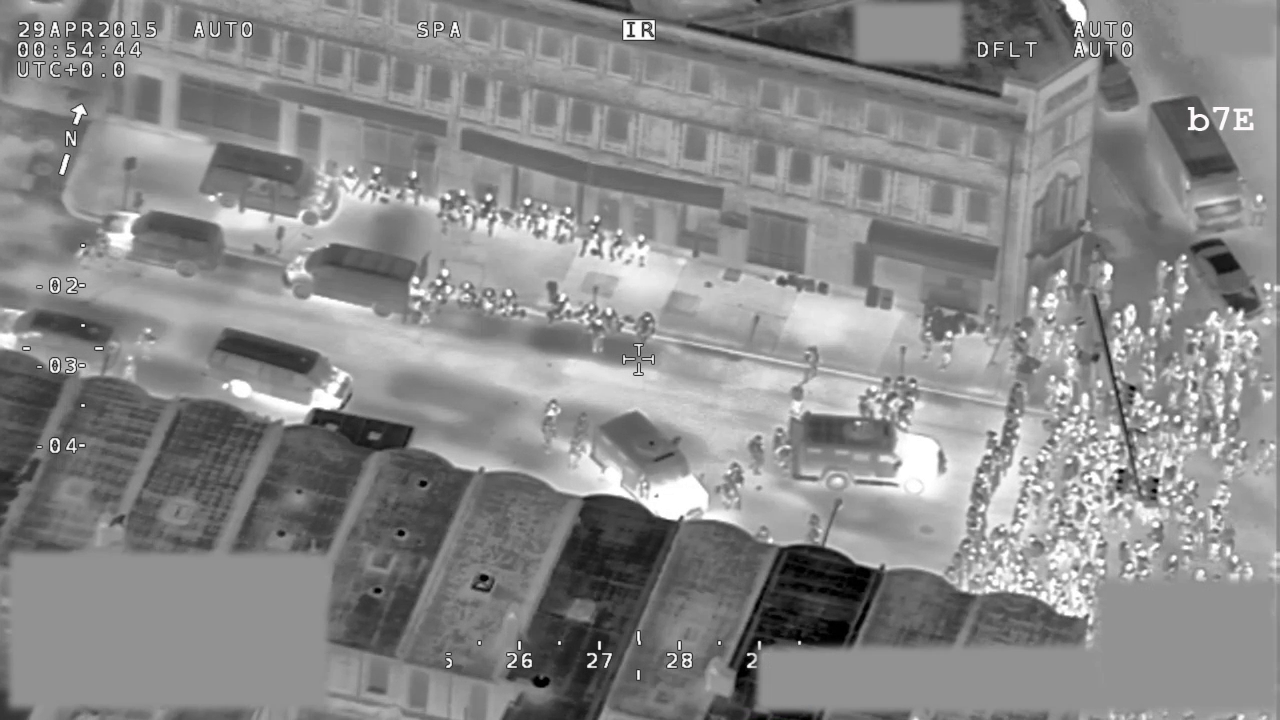vehicle: (1146, 91, 1251, 235), (787, 405, 949, 497), (200, 321, 357, 415), (279, 239, 432, 330), (591, 409, 711, 524), (197, 138, 343, 230), (92, 207, 227, 280), (1, 301, 132, 376), (1188, 235, 1266, 321)
